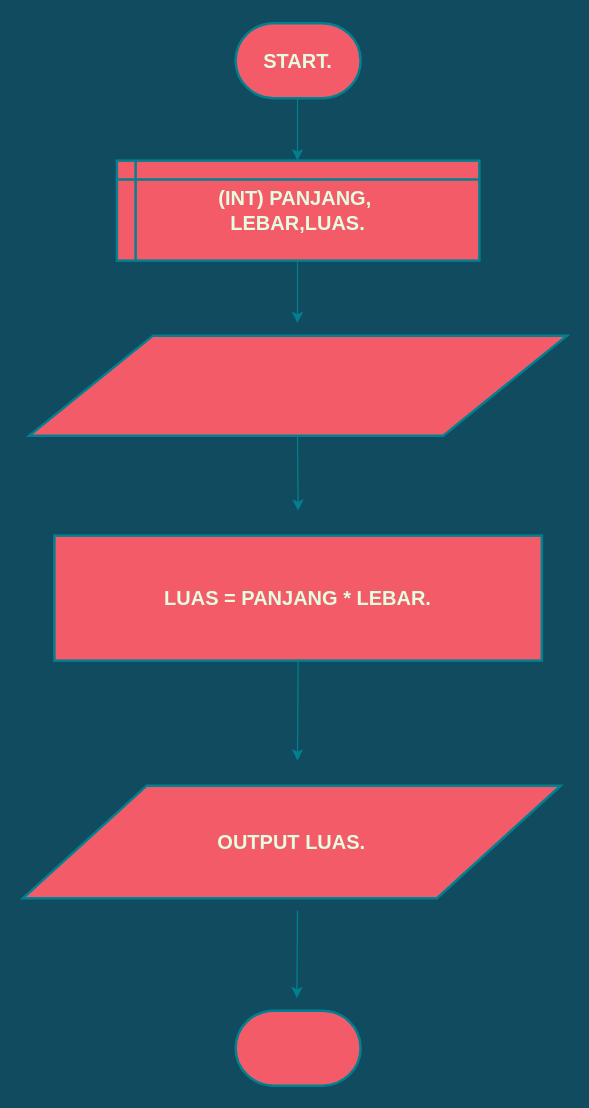
The diagram is 589 pixels wide and 1108 high, and some of its shapes have lost their labels. The shapes that lost their labels are listed below. From the top down, each one's box as (x1, y1, x2, y2) in pixels, then its label:
(28, 334, 568, 436): INPUT PANJANG , LEBAR.
(234, 1009, 361, 1086): END.
